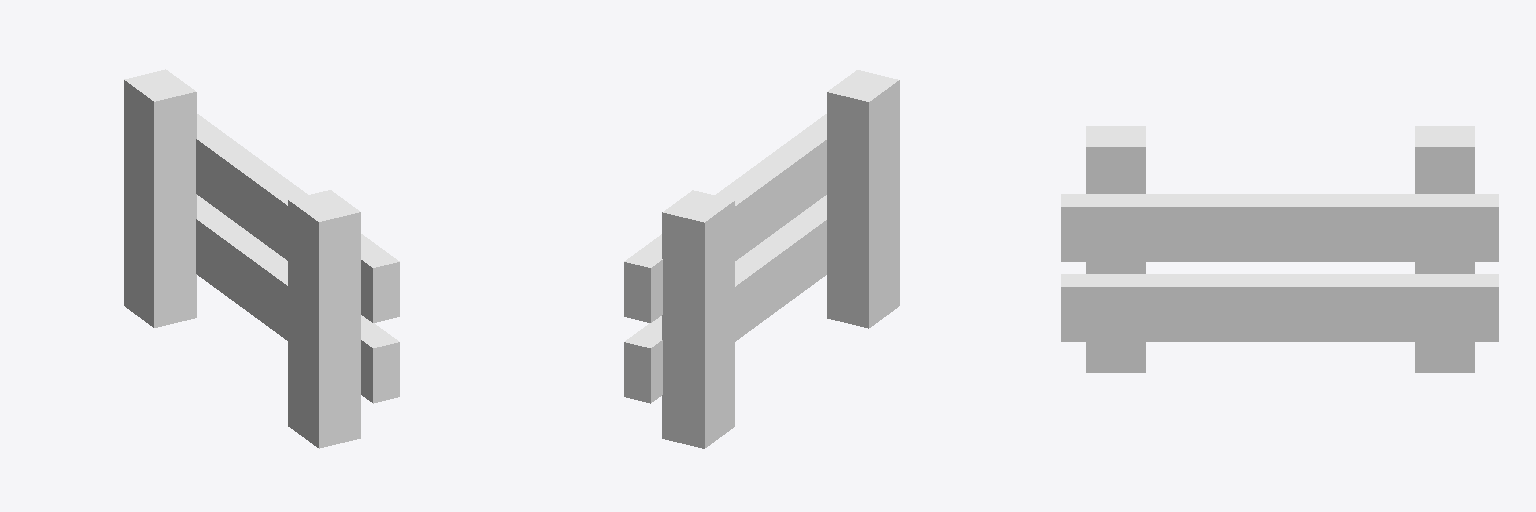
File: Fence_02.obj
3 renders of one model, left to right at view 1: azimuth 30°, elevation 25°; view 2: azimuth 150°, elevation 25°; view 3: azimuth 270°, elevation 25°, orthographic.
Parts seen in each view (by area): view 1: Cube_Cube:001.003; view 2: Cube_Cube:001.003; view 3: Cube_Cube:001.003.
Part boxes in pixels (bbox=[...]): Cube_Cube:001.003: bbox=[124, 69, 399, 448]; Cube_Cube:001.003: bbox=[624, 70, 899, 448]; Cube_Cube:001.003: bbox=[1061, 126, 1498, 372].
Size of the model in its own units: 0.1802 by 0.5682 by 0.9969.